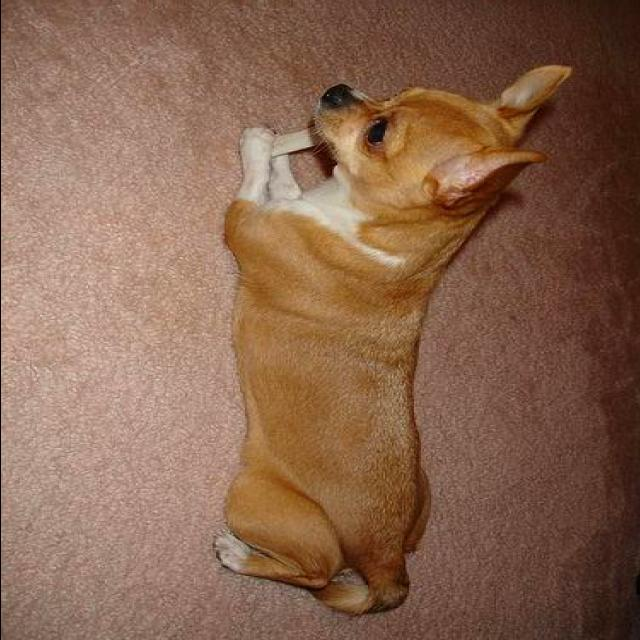chihuahua: (208, 62, 575, 618)
